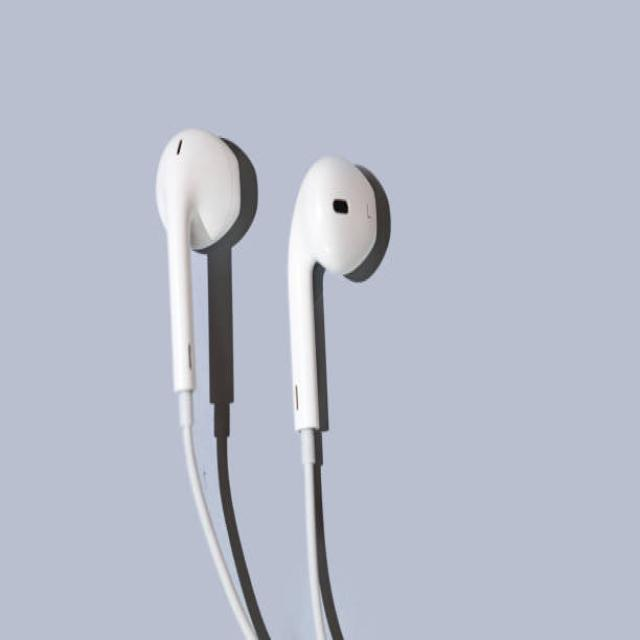Earphone: (155, 130, 377, 640)
